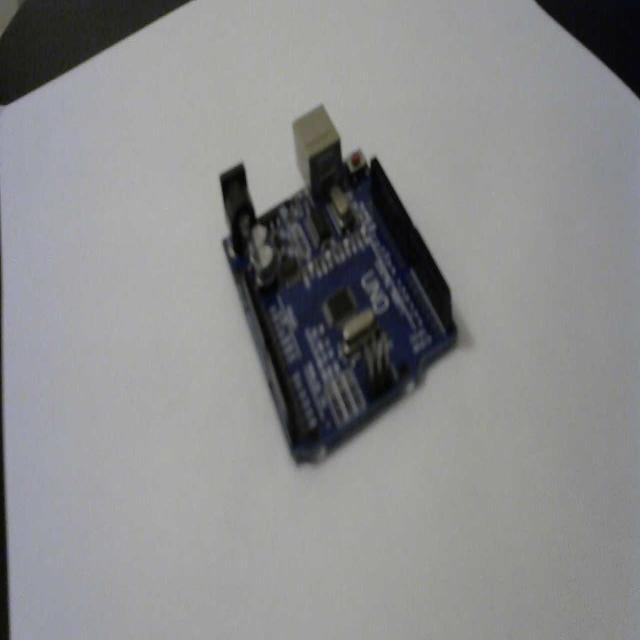arduino: (218, 96, 461, 472)
